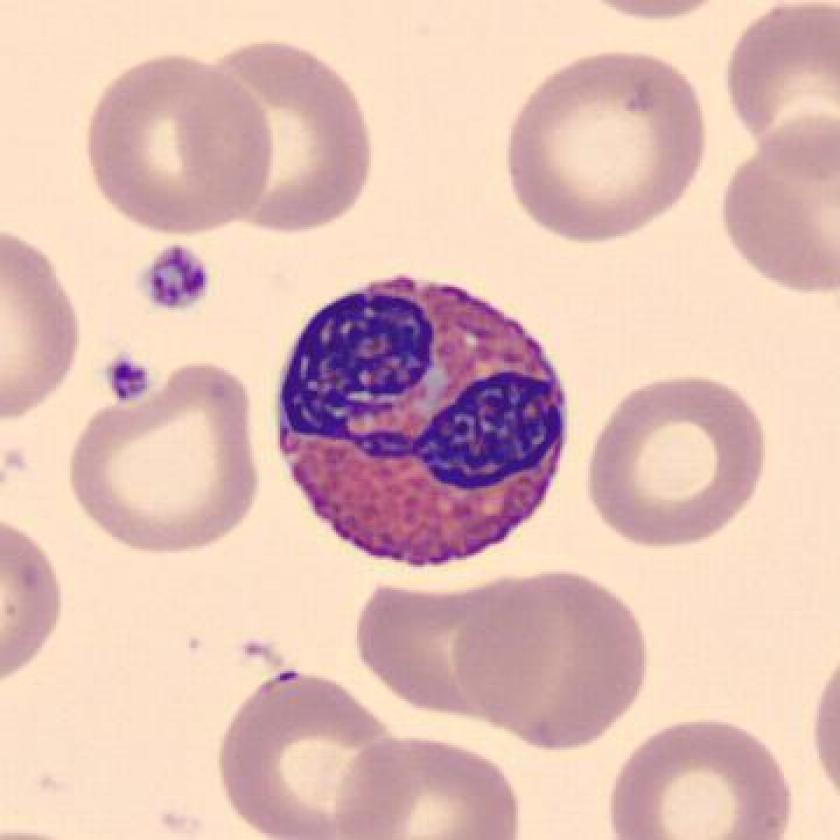eosinophil: (260, 260, 584, 580)
